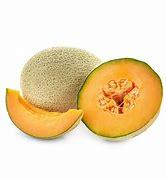Melon Ripe: (76, 58, 163, 142), (20, 48, 101, 112), (4, 88, 84, 140)
